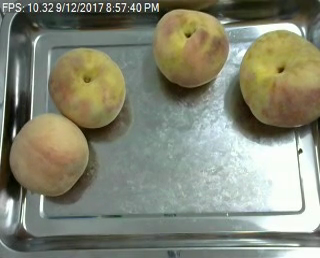Peach: (238, 29, 319, 127), (7, 112, 89, 196), (49, 46, 126, 129), (152, 8, 228, 87)
